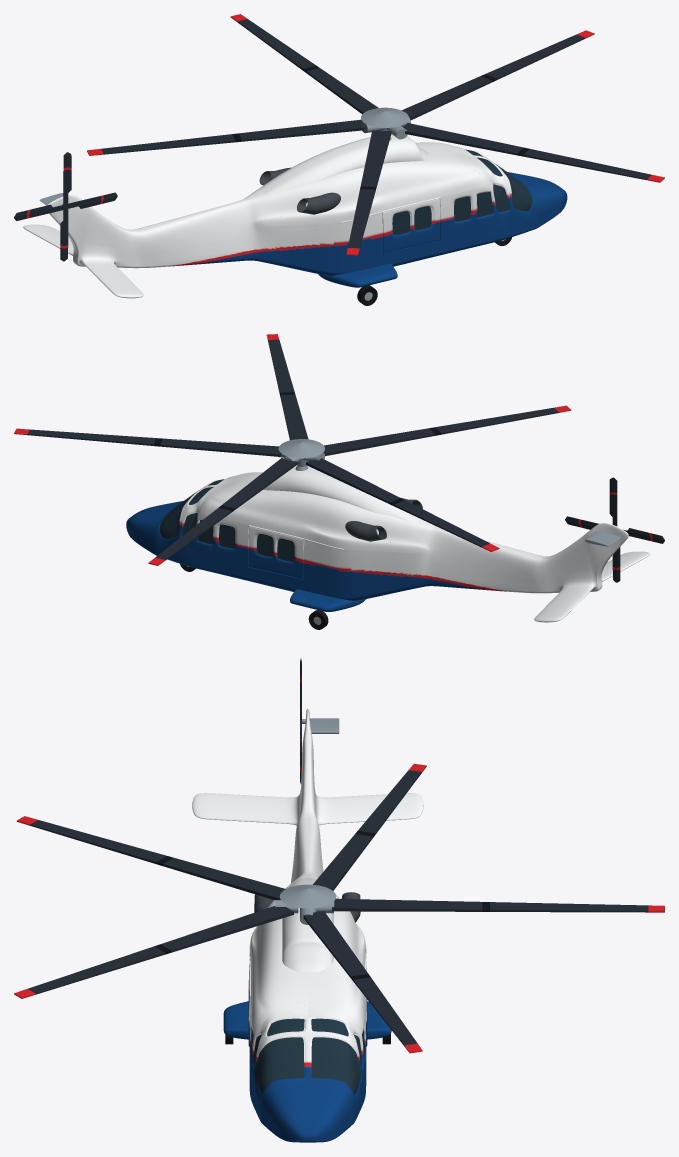
Rendered from aw139-assembly.glb.
3 renders of one model, top to bottom at view 1: azimuth 30°, elevation 25°; view 2: azimuth 150°, elevation 25°; view 3: azimuth 270°, elevation 25°, orthographic. The views are drawn at different scales.
Parts seen in each view (by area): view 1: airframeMesh3, airframeMesh4, airframeMesh5, upperFairingMesh8, mainBlade02Surface, mainBlade04Surface, mainBlade05Surface, mainBlade03Surface, mainBlade01Surface, tailRotorMesh62, lowerFairingMesh10, mainRotorHubMesh20 (+2 smaller); view 2: airframeMesh4, airframeMesh3, airframeMesh5, upperFairingMesh8, mainBlade05Surface, mainBlade03Surface, mainBlade02Surface, mainBlade01Surface, mainBlade04Surface, tailRotorMesh62, lowerFairingMesh10, mainRotorHubMesh20 (+2 smaller); view 3: airframeMesh4, airframeMesh3, airframeMesh5, mainBlade01Surface, mainBlade04Surface, mainBlade03Surface, mainBlade05Surface, mainBlade02Surface, upperFairingMesh8, sideGlazingRightPane6, sideGlazingLeftPane6, lowerFairingMesh10 (+1 smaller).
Boxes of the visible parts, <box> form: airframeMesh3: <box>48,155,564,298</box>; airframeMesh4: <box>23,142,567,298</box>; airframeMesh5: <box>27,143,566,297</box>; upperFairingMesh8: <box>259,134,430,194</box>; mainBlade02Surface: <box>101,119,364,154</box>; mainBlade04Surface: <box>403,123,651,180</box>; mainBlade05Surface: <box>401,34,585,120</box>; mainBlade03Surface: <box>348,130,391,248</box>; mainBlade01Surface: <box>237,19,378,114</box>; tailRotorMesh62: <box>14,152,117,261</box>; lowerFairingMesh10: <box>318,263,397,287</box>; mainRotorHubMesh20: <box>361,107,408,127</box>; airframeMesh4: <box>126,472,650,622</box>; airframeMesh3: <box>244,489,649,600</box>; airframeMesh5: <box>126,472,645,622</box>; upperFairingMesh8: <box>263,465,420,522</box>; mainBlade05Surface: <box>27,429,281,456</box>; mainBlade03Surface: <box>323,407,558,456</box>; mainBlade02Surface: <box>306,458,489,547</box>; mainBlade01Surface: <box>155,458,297,560</box>; mainBlade04Surface: <box>268,339,308,440</box>; tailRotorMesh62: <box>565,477,664,582</box>; lowerFairingMesh10: <box>290,589,365,611</box>; mainRotorHubMesh20: <box>278,439,324,458</box>; airframeMesh4: <box>192,709,423,1142</box>; airframeMesh3: <box>192,708,366,1142</box>; airframeMesh5: <box>197,709,422,1142</box>; mainBlade01Surface: <box>332,898,648,912</box>; mainBlade04Surface: <box>28,906,293,994</box>; mainBlade03Surface: <box>30,820,285,900</box>; mainBlade05Surface: <box>303,911,417,1045</box>; mainBlade02Surface: <box>313,770,421,890</box>; upperFairingMesh8: <box>282,878,333,972</box>; sideGlazingRightPane6: <box>311,1037,361,1094</box>; sideGlazingLeftPane6: <box>254,1037,304,1094</box>; lowerFairingMesh10: <box>223,1001,391,1039</box>.
Size of the model in its own units: 13.75 by 4.15 by 10.52.
